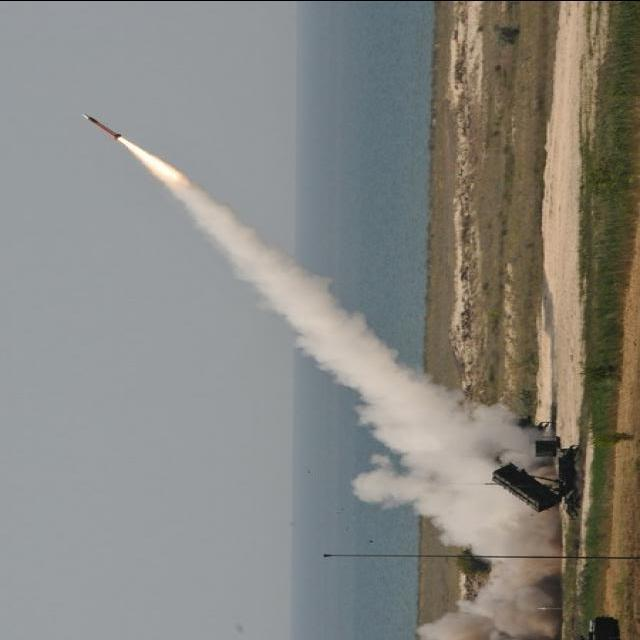missile: (82, 111, 121, 139)
